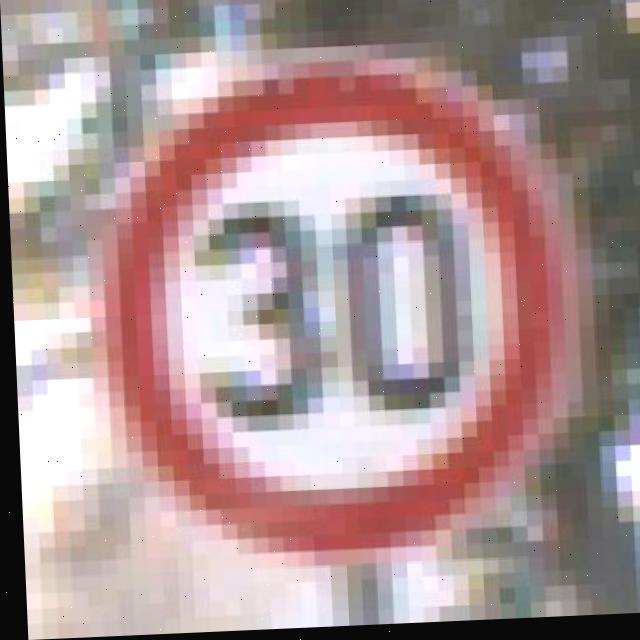Speed limit 30: (104, 54, 578, 571)
